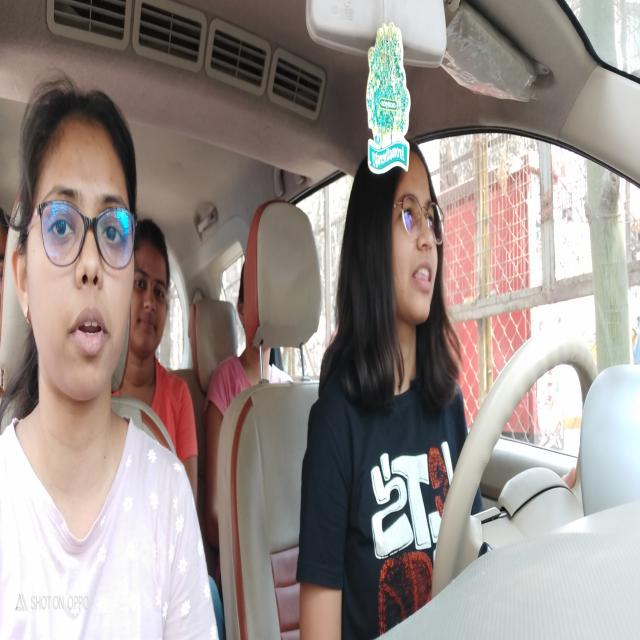person: (28, 98, 137, 384), (378, 165, 442, 320), (135, 222, 169, 358), (241, 344, 274, 381)
